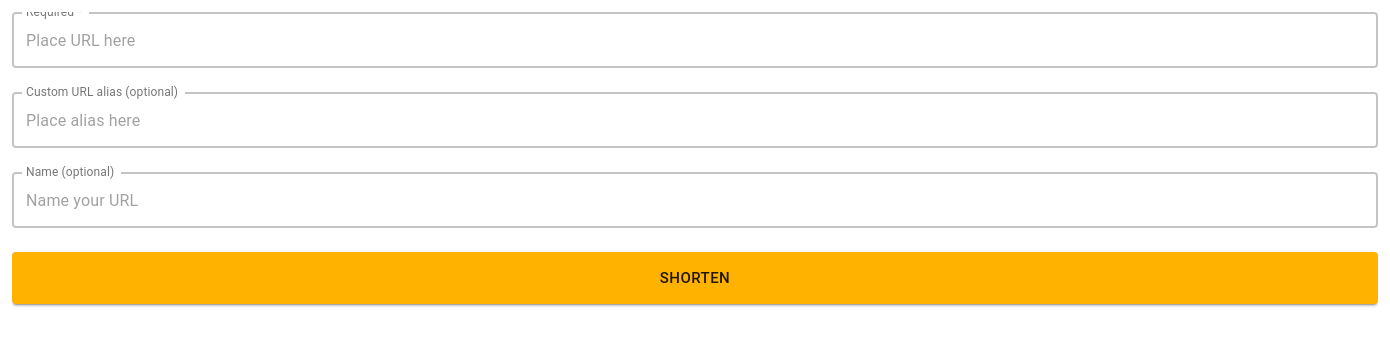
Test: UrlShortener component renders create link & give visual feedback
Type "url.com" into the field labelled "Place URL here" at coordinates (695, 40), box top-left (12, 12), bottom-right (1378, 68)
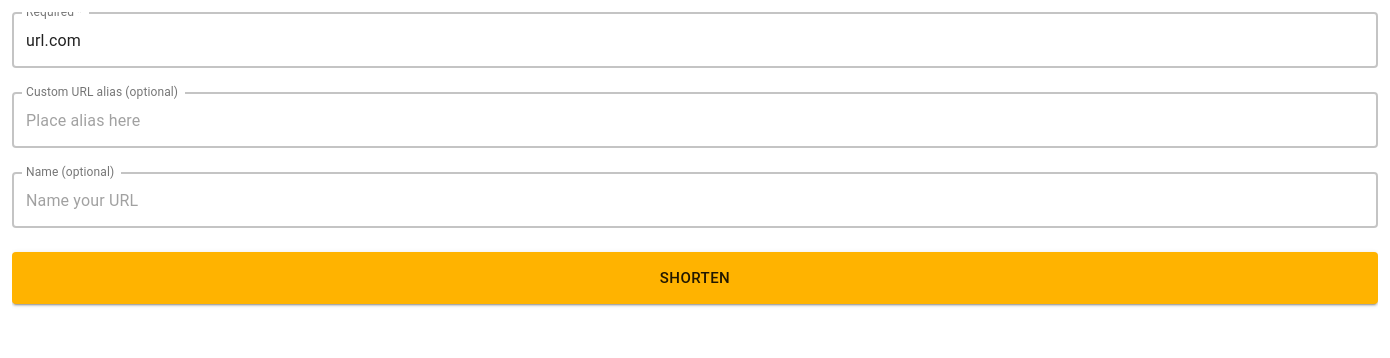
Click the button "Shorten" at coordinates (695, 278), box top-left (12, 252), bottom-right (1378, 304)
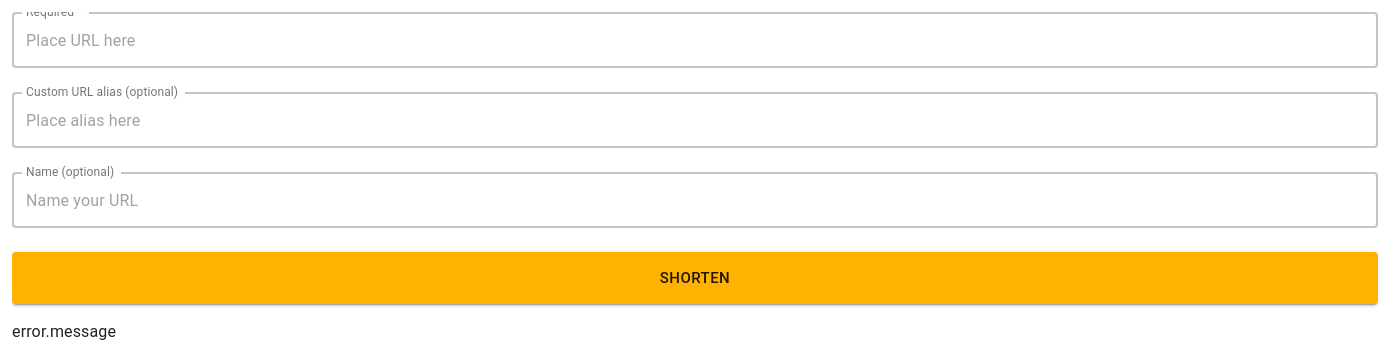
expect the text "error.message" is shown: met, box top-left (12, 322), bottom-right (116, 341)
